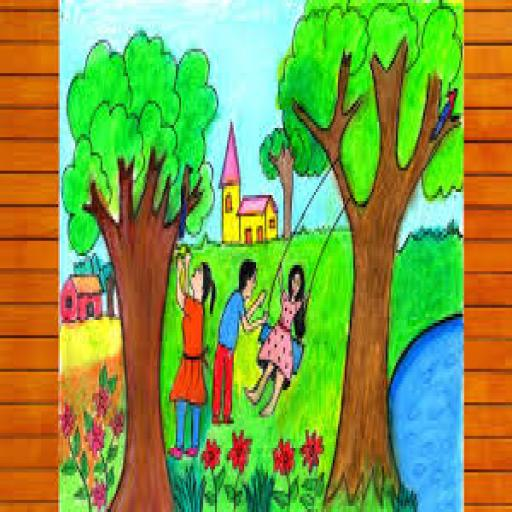person: (160, 240, 218, 463), (244, 258, 312, 424), (206, 256, 270, 429)
